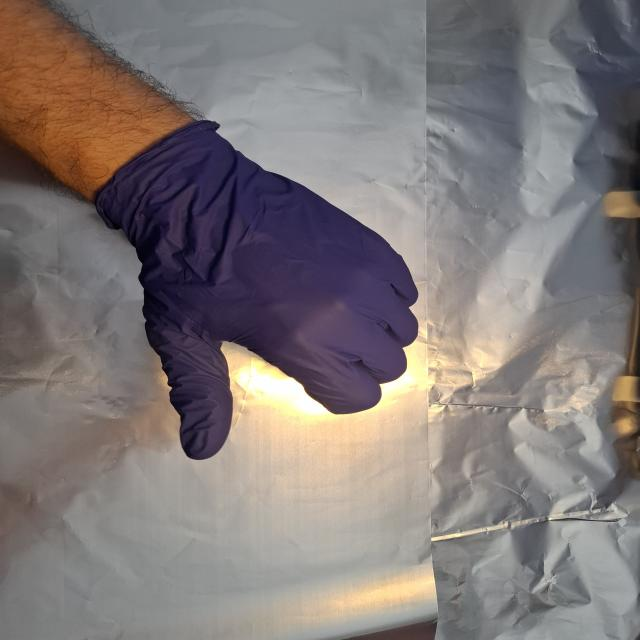glove_on: (95, 116, 426, 462)
